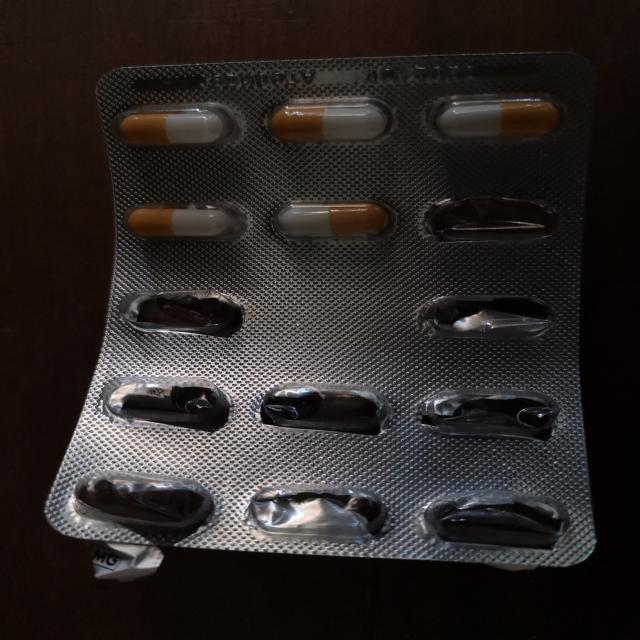Empty: (58, 461, 226, 537), (413, 482, 578, 555), (238, 472, 394, 546), (247, 374, 398, 447), (404, 381, 568, 448), (92, 366, 241, 437), (406, 287, 564, 353), (406, 184, 566, 247), (116, 284, 254, 342)
Pill: (415, 88, 574, 146), (258, 89, 400, 150), (105, 98, 239, 156), (108, 192, 254, 245), (264, 192, 398, 245)
